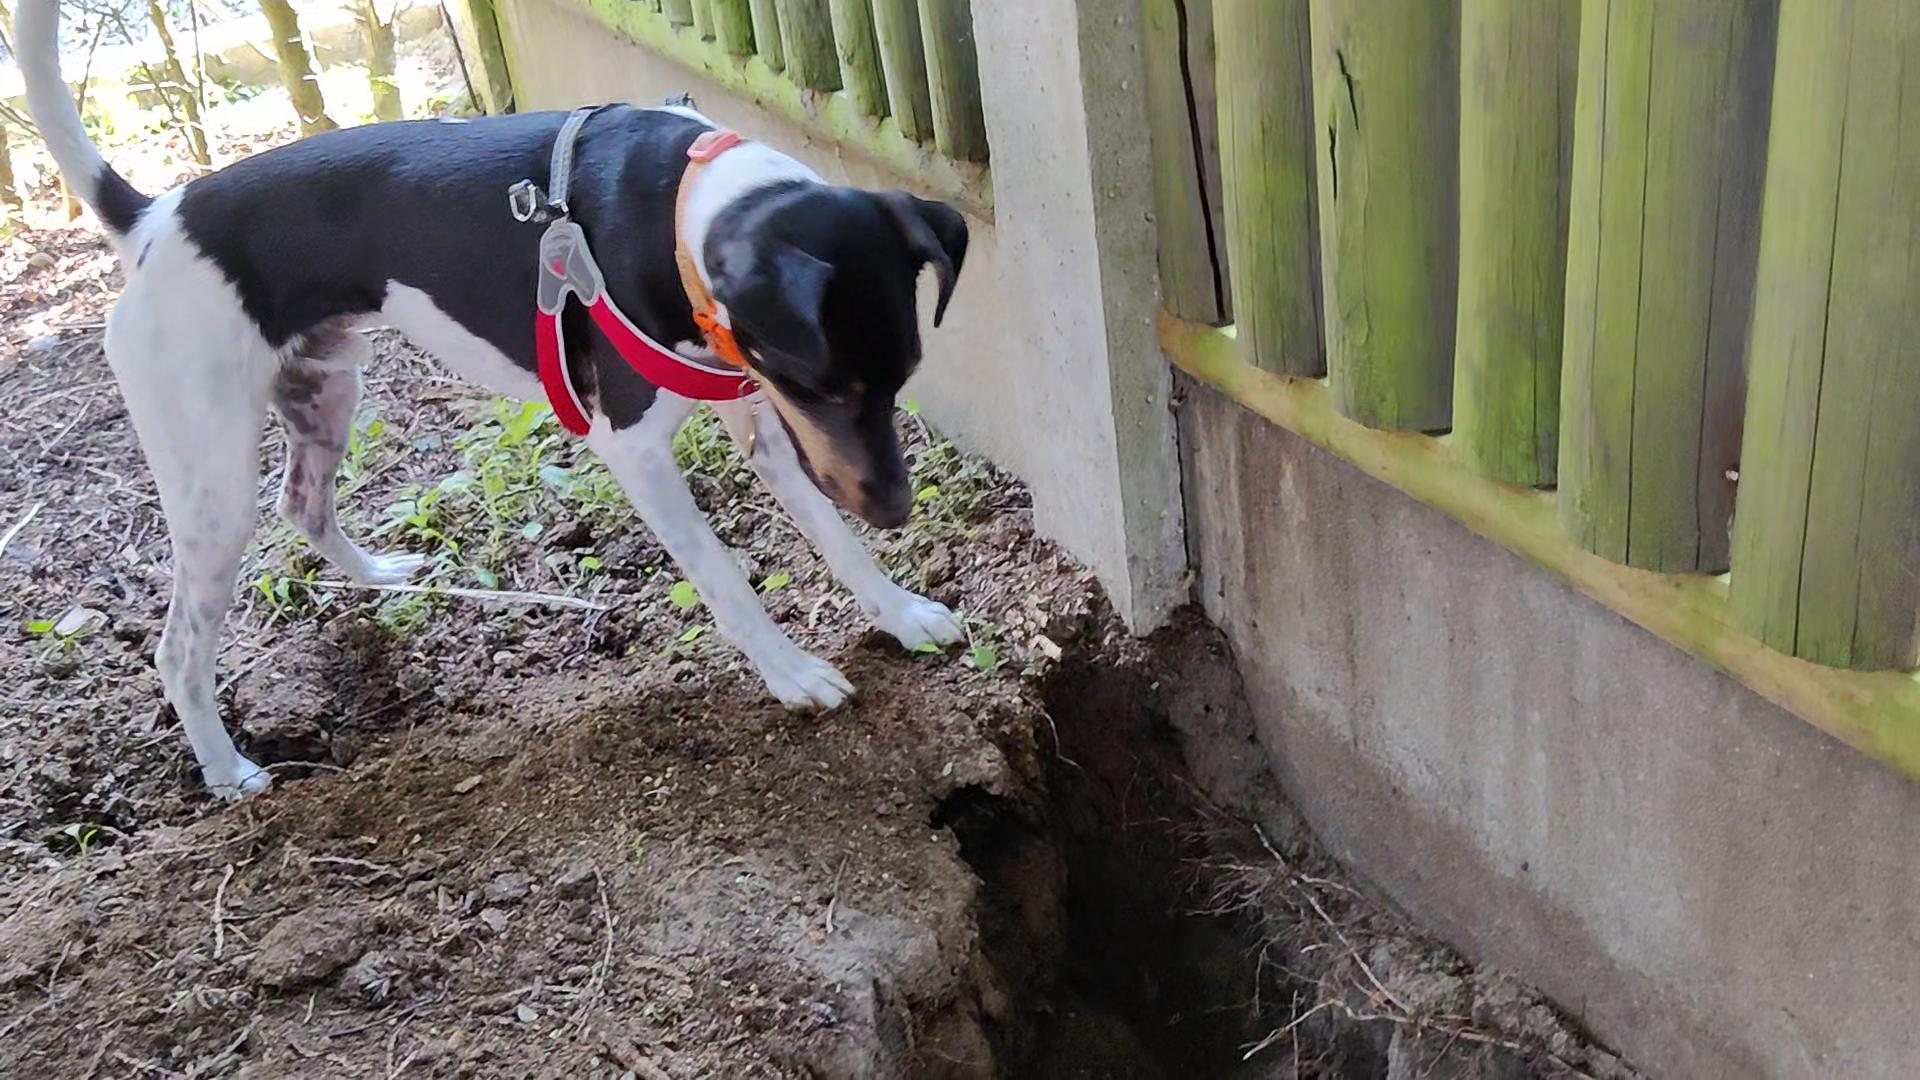Dog: (9, 0, 1000, 808)
